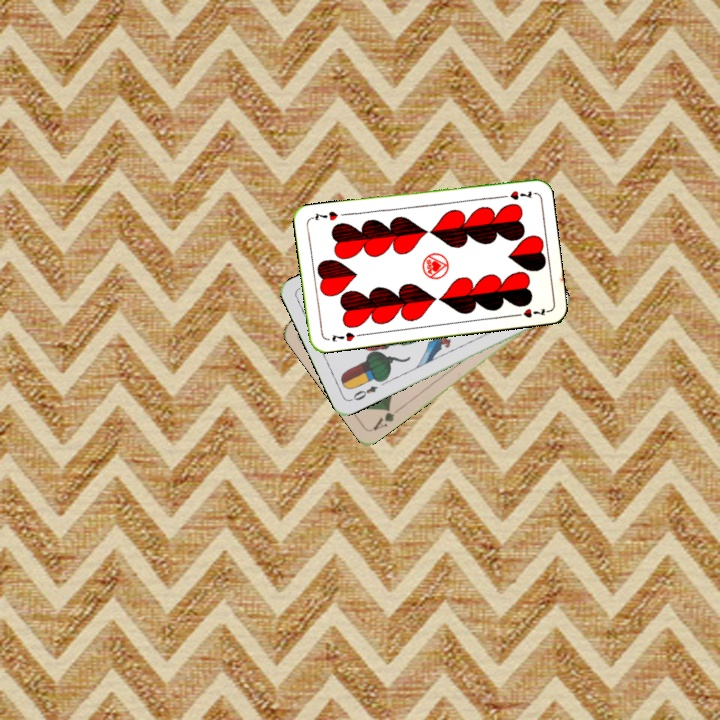EO: (346, 382, 380, 404)
GA: (369, 403, 403, 433)
H7: (495, 187, 534, 202), (328, 328, 364, 344)
